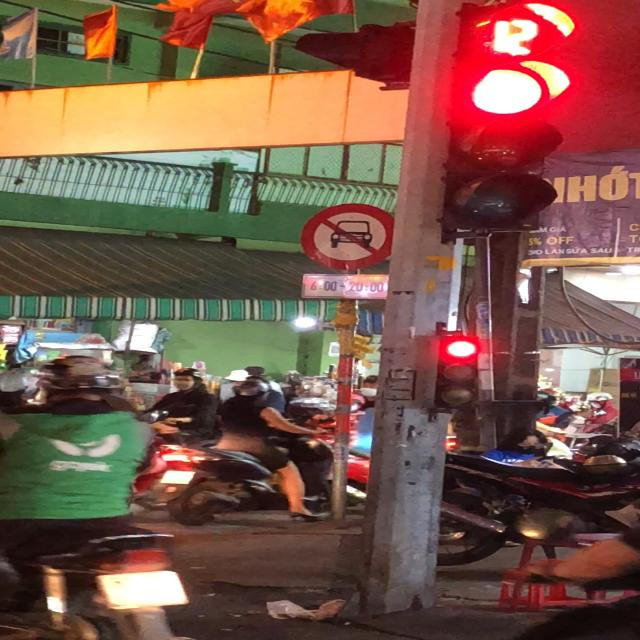Bien bao cam xe oto: (295, 202, 405, 275)
